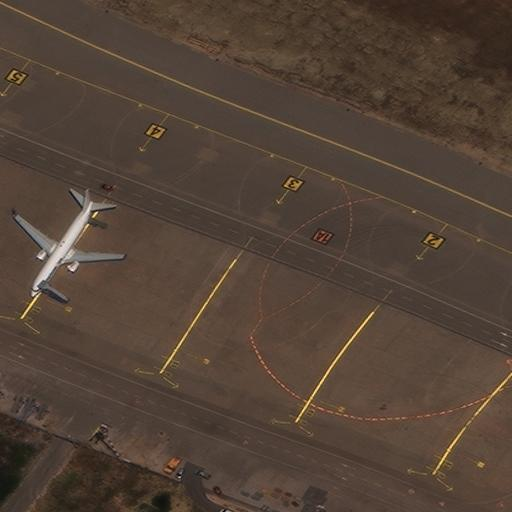Medium Civil Transport: (14, 187, 122, 297)
